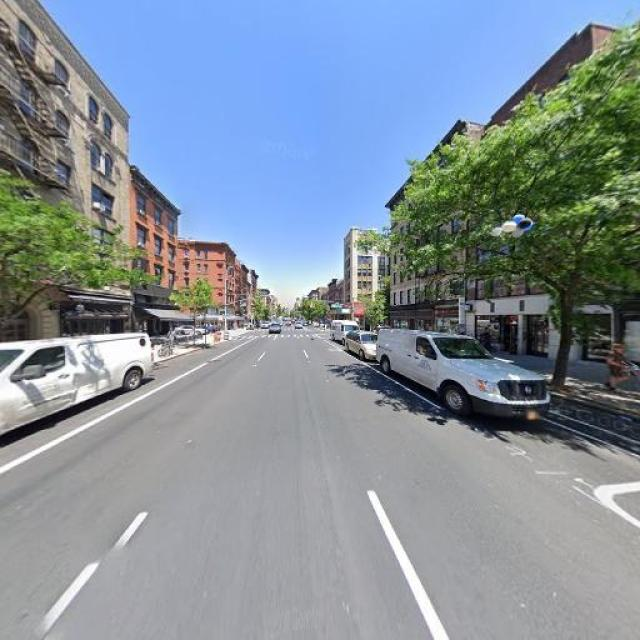Building: (1, 1, 127, 364), (472, 32, 592, 370), (392, 130, 467, 350), (600, 30, 640, 379), (132, 165, 175, 344)
